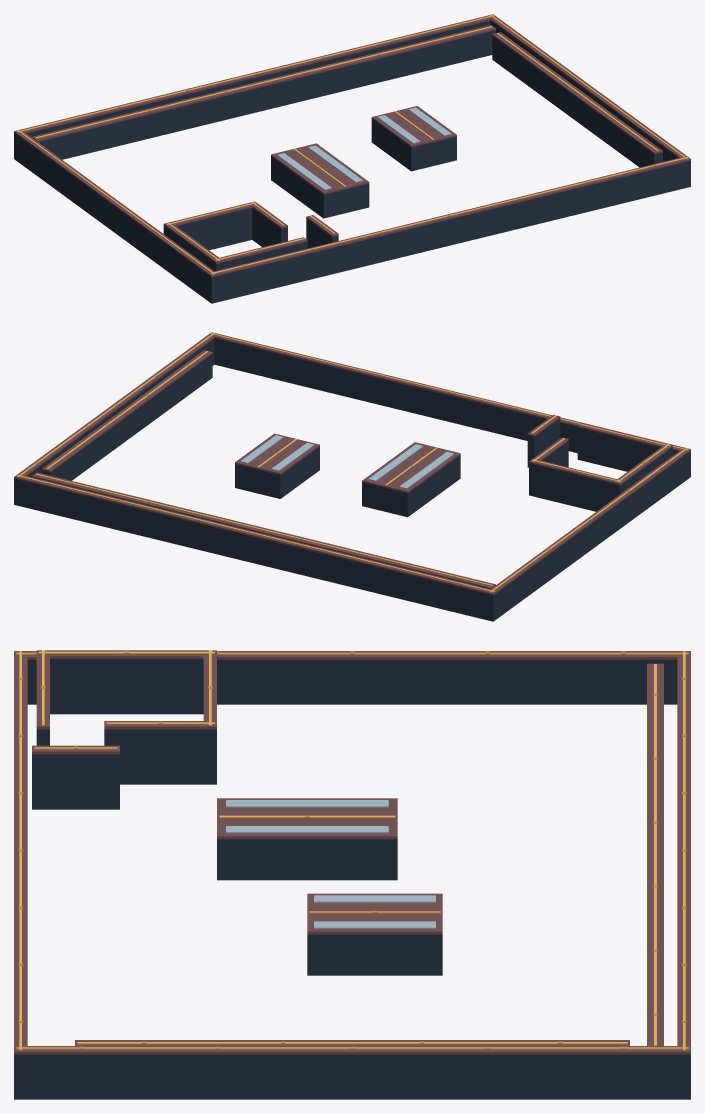
File: campaign_forge.gltf
3 views of the same model, one above another, from view 1: azimuth 30°, elevation 25°; view 2: azimuth 150°, elevation 25°; view 3: azimuth 270°, elevation 25° (orthographic). The views are drawn at different scales.
Parts seen in each view (by area): view 1: SOLID 1 border, SOLID 11 reflector, SOLID 2 border, SOLID 12 reflector, SOLID crown 11 reflector, SOLID crown 1 border, SOLID crown 0 border, SOLID 0 border, SOLID 9 cover, SOLID 10 cover, SOLID 5 cover, SOLID crown 9 cover (+16 smaller); view 2: SOLID 0 border, SOLID 1 border, SOLID 2 border, SOLID 12 reflector, SOLID crown 11 reflector, SOLID crown 0 border, SOLID 5 cover, SOLID 9 cover, SOLID 6 cover, SOLID crown 1 border, SOLID 10 cover, SOLID crown 9 cover (+14 smaller); view 3: SOLID 3 border, SOLID 2 border, SOLID 4 cover, SOLID 9 cover, SOLID 10 cover, SOLID 7 cover, SOLID crown 11 reflector, SOLID crown 3 border, SOLID crown 9 cover, SOLID 8 cover, SOLID crown 0 border, SOLID crown 1 border (+16 smaller).
Part boxes in pixels (x1=…): SOLID 1 border: x1=207, y1=160, x2=690, y2=303; SOLID 11 reflector: x1=38, y1=30, x2=495, y2=159; SOLID 2 border: x1=14, y1=135, x2=218, y2=302; SOLID 12 reflector: x1=492, y1=36, x2=662, y2=167; SOLID crown 11 reflector: x1=32, y1=25, x2=495, y2=141; SOLID crown 1 border: x1=207, y1=156, x2=690, y2=277; SOLID crown 0 border: x1=14, y1=14, x2=496, y2=135; SOLID 0 border: x1=14, y1=20, x2=490, y2=161; SOLID 9 cover: x1=271, y1=156, x2=369, y2=218; SOLID 10 cover: x1=371, y1=119, x2=456, y2=171; SOLID 5 cover: x1=163, y1=207, x2=252, y2=250; SOLID crown 9 cover: x1=271, y1=143, x2=369, y2=194; SOLID 0 border: x1=14, y1=478, x2=497, y2=621; SOLID 1 border: x1=214, y1=338, x2=690, y2=479; SOLID 2 border: x1=486, y1=454, x2=686, y2=621; SOLID 12 reflector: x1=42, y1=354, x2=212, y2=480; SOLID crown 11 reflector: x1=32, y1=472, x2=495, y2=589; SOLID crown 0 border: x1=14, y1=474, x2=497, y2=595; SOLID 5 cover: x1=529, y1=463, x2=623, y2=511; SOLID 9 cover: x1=362, y1=455, x2=460, y2=517; SOLID 6 cover: x1=577, y1=427, x2=672, y2=471; SOLID crown 1 border: x1=208, y1=332, x2=690, y2=453; SOLID 10 cover: x1=235, y1=446, x2=319, y2=498; SOLID crown 9 cover: x1=362, y1=442, x2=460, y2=493; SOLID 3 border: x1=14, y1=1054, x2=690, y2=1099; SOLID 2 border: x1=27, y1=659, x2=677, y2=704; SOLID 4 cover: x1=50, y1=659, x2=203, y2=714; SOLID 9 cover: x1=217, y1=839, x2=397, y2=880; SOLID 10 cover: x1=307, y1=934, x2=442, y2=975; SOLID 7 cover: x1=104, y1=729, x2=216, y2=784; SOLID crown 11 reflector: x1=647, y1=663, x2=663, y2=1045; SOLID crown 3 border: x1=14, y1=1046, x2=690, y2=1054; SOLID crown 9 cover: x1=217, y1=798, x2=397, y2=839; SOLID 8 cover: x1=32, y1=754, x2=119, y2=809; SOLID crown 0 border: x1=677, y1=651, x2=690, y2=1054; SOLID crown 1 border: x1=14, y1=651, x2=27, y2=1054.
Size of the model in its own units: 21 by 1.45 by 15.
